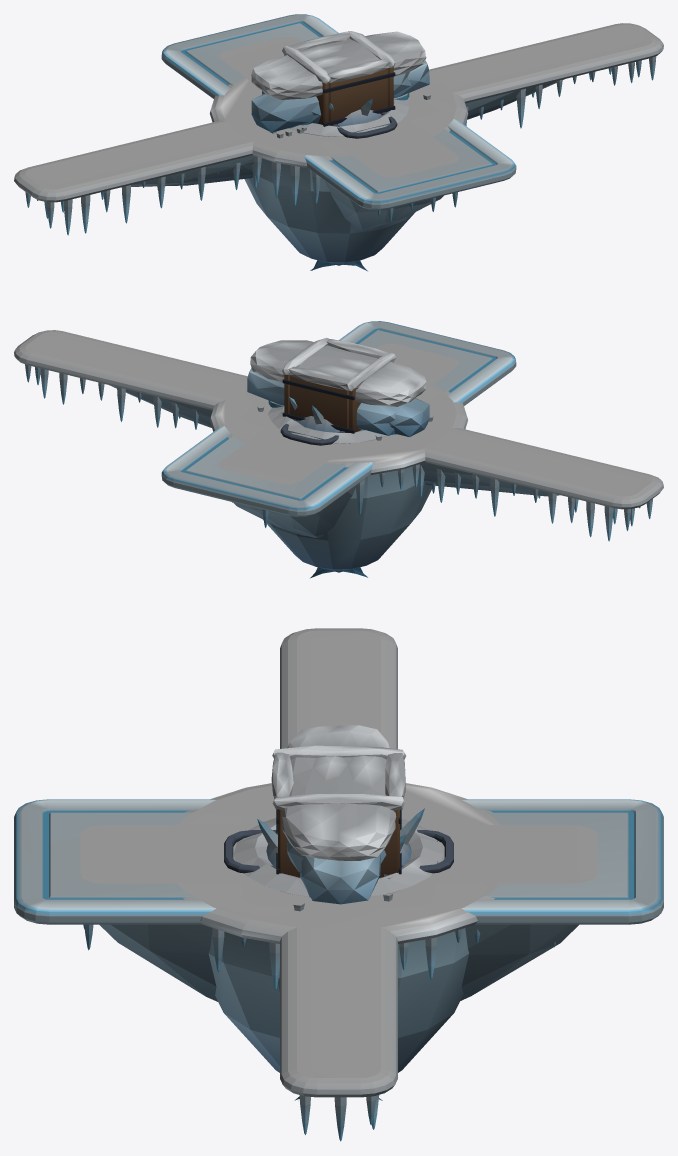
Rendered from glacier-5-DeuYqTu1.glb.
The picture shows the model from 3 angles, top to bottom: view 1: azimuth 30°, elevation 25°; view 2: azimuth 150°, elevation 25°; view 3: azimuth 270°, elevation 25°; orthographic projection. The views are drawn at different scales.
Parts seen in each view (by area): view 1: block_40x2x4#0, block_10x2x24_ice#0, disc_14x1.5#0, spout_8x2#0, block_6x2x20#0, hopper_3x3#0, geyserVent_3#0, block_10x2x8#0, jetVent_3x8#0; view 2: block_40x2x4#0, block_10x2x24_ice#0, disc_14x1.5#0, spout_8x2#0, block_6x2x20#0, hopper_3x3#0, geyserVent_3#0, block_10x2x8#0, jetVent_3x8#0; view 3: block_10x2x24_ice#0, block_40x2x4#0, disc_14x1.5#0, block_6x2x20#0, spout_8x2#0, hopper_3x3#0, geyserVent_3#0, block_10x2x8#0, jetVent_3x8#0, block_8x2x8#0.
Boxes of the visible parts, box(x1,y1,x2,y2) form: block_40x2x4#0: box(14, 23, 663, 235); block_10x2x24_ice#0: box(161, 14, 516, 230); disc_14x1.5#0: box(209, 76, 468, 265); spout_8x2#0: box(251, 31, 430, 138); block_6x2x20#0: box(219, 37, 458, 222); hopper_3x3#0: box(282, 31, 395, 126); geyserVent_3#0: box(291, 95, 409, 136); block_10x2x8#0: box(242, 91, 435, 145); jetVent_3x8#0: box(332, 112, 397, 138); block_40x2x4#0: box(14, 330, 663, 541); block_10x2x24_ice#0: box(161, 321, 516, 537); disc_14x1.5#0: box(209, 383, 468, 572); spout_8x2#0: box(247, 340, 433, 440); block_6x2x20#0: box(219, 344, 458, 527); hopper_3x3#0: box(282, 337, 396, 433); geyserVent_3#0: box(268, 397, 386, 443); block_10x2x8#0: box(242, 399, 435, 452); jetVent_3x8#0: box(280, 419, 345, 445); block_10x2x24_ice#0: box(14, 799, 663, 1001); block_40x2x4#0: box(280, 628, 397, 1141); disc_14x1.5#0: box(177, 783, 500, 1072); block_6x2x20#0: box(80, 825, 597, 950); spout_8x2#0: box(281, 725, 396, 911); hopper_3x3#0: box(271, 745, 406, 877); geyserVent_3#0: box(233, 808, 443, 896); block_10x2x8#0: box(243, 802, 434, 906); jetVent_3x8#0: box(224, 830, 453, 873); block_8x2x8#0: box(242, 813, 435, 894).
Size of the model in its own units: 40.36 by 13.92 by 24.
